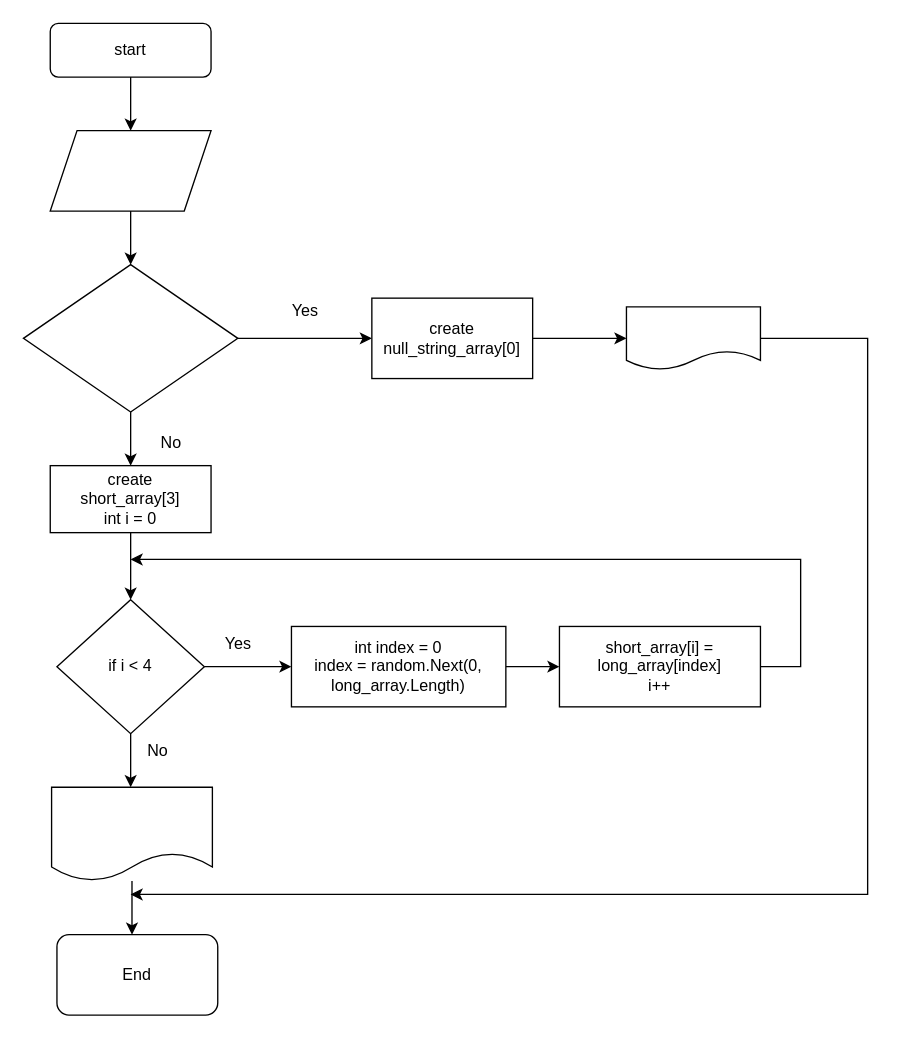
Some shapes in this 902 by 1039 pixel diagram are drawn without their labels. The centre of each missing label's shape, as x and y in pixels:
"if string_array.Length <= 3" goes at (x=130, y=337).
"print null_string_array" goes at (x=692, y=338).
"print short_array" goes at (x=131, y=833).
"string_array[N]" goes at (x=130, y=170).
